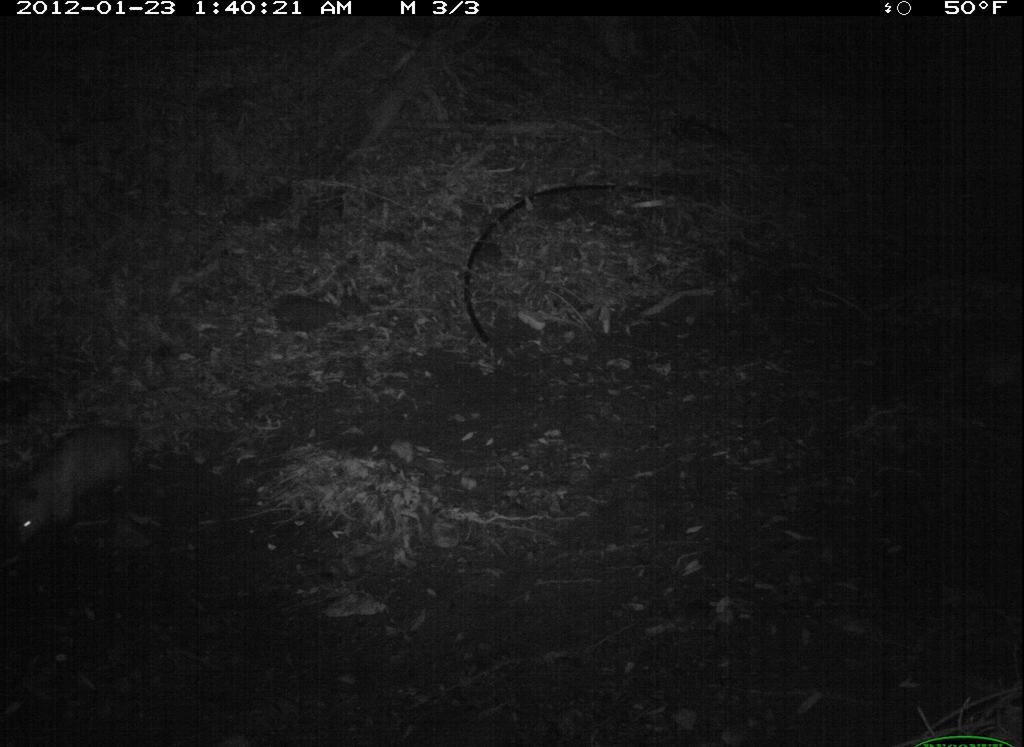opossum: (6, 406, 146, 551)
